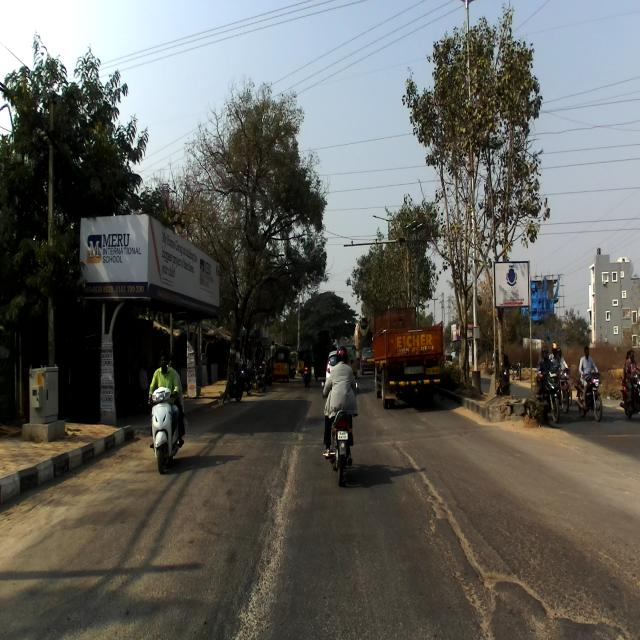motorcycle ahead at: (145, 381, 186, 468), (322, 413, 357, 487)
truck ahead at: (374, 293, 449, 416)
